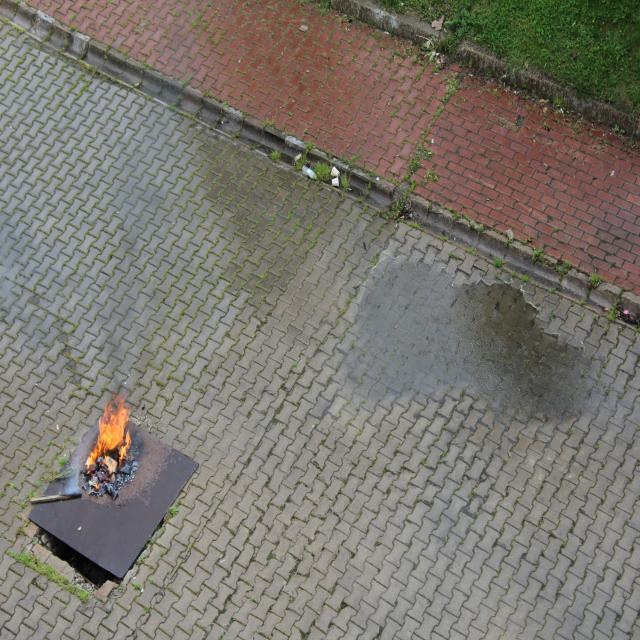fire: (82, 384, 134, 486)
